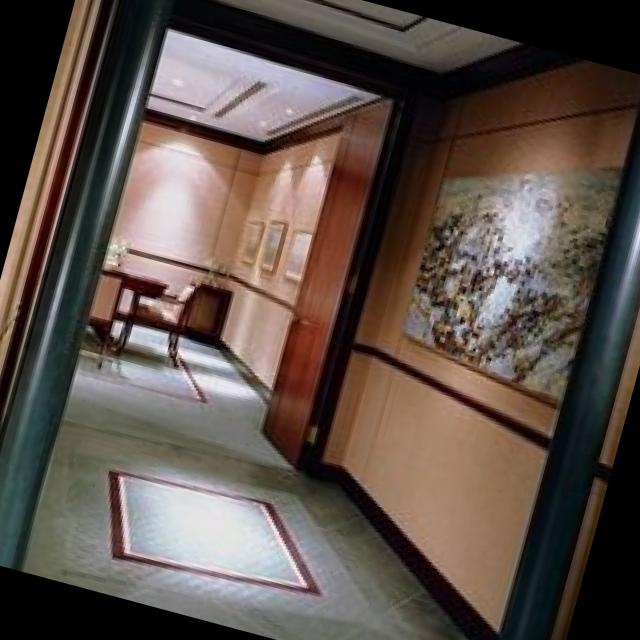painting crop: (397, 159, 619, 399), (254, 217, 285, 270), (281, 227, 311, 280), (235, 217, 262, 262)
